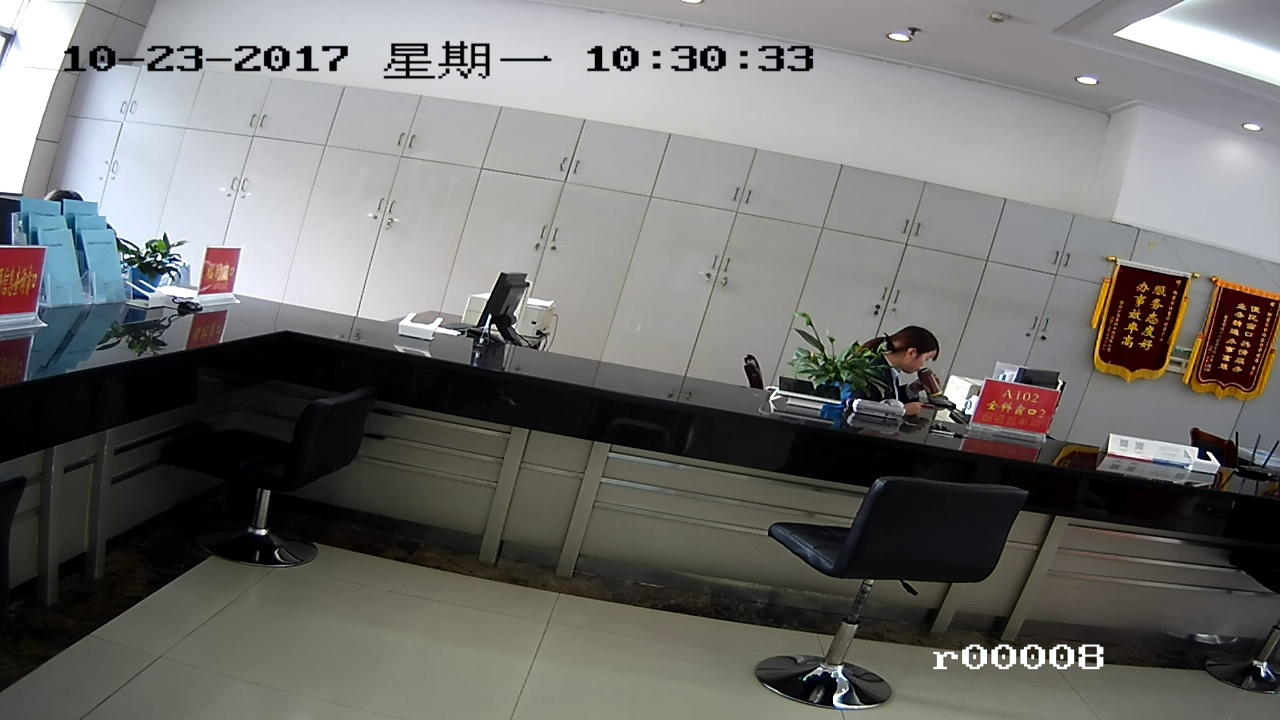billboard: (1112, 259, 1177, 382), (1214, 285, 1262, 403), (980, 381, 1058, 442)
chair: (758, 466, 1018, 712), (184, 389, 384, 569)
monitor: (494, 272, 526, 342)
person: (871, 327, 940, 388)
pot: (809, 338, 874, 406), (129, 230, 180, 293)
